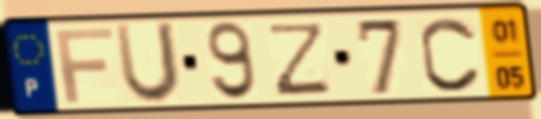7: (353, 17, 408, 98)
9: (204, 18, 260, 104)
C: (417, 14, 484, 95)
F: (52, 26, 116, 106)
U: (112, 19, 184, 108)
Z: (268, 19, 333, 98)
